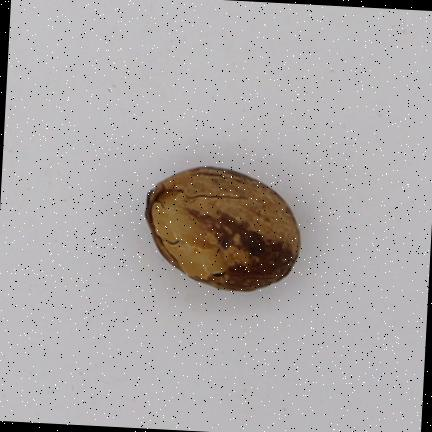husk: (146, 168, 300, 290)
